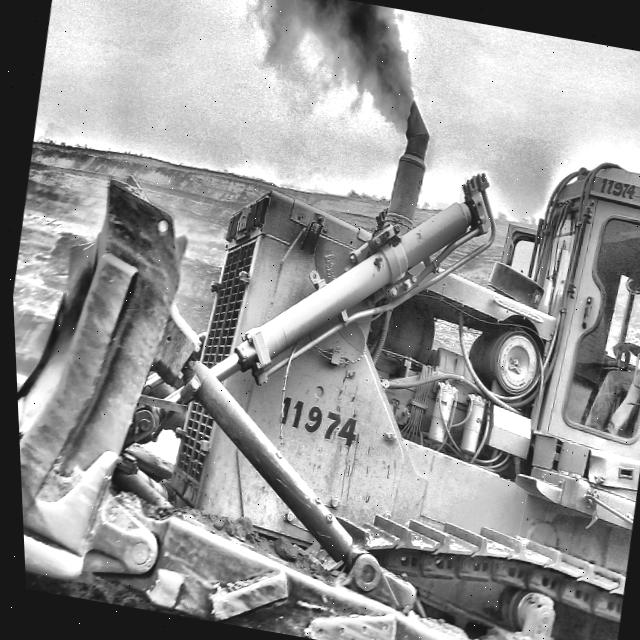buldozerpayloadergrader: (14, 119, 640, 640)
